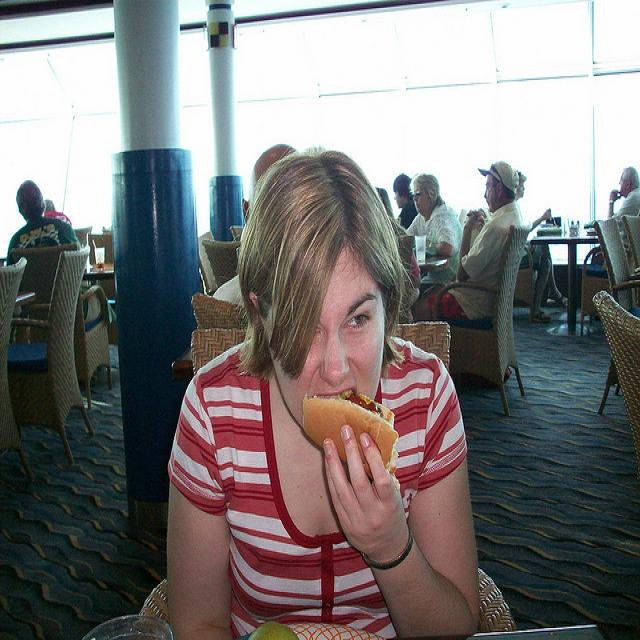chair: (1, 213, 611, 636), (7, 244, 96, 466), (430, 229, 530, 418), (190, 322, 450, 372), (593, 217, 640, 414), (594, 290, 640, 468), (0, 257, 35, 484), (8, 245, 77, 310), (190, 291, 247, 330), (514, 249, 539, 323), (198, 231, 218, 294), (621, 213, 639, 275), (229, 225, 244, 242)
dining table: (530, 231, 601, 334), (420, 254, 450, 274), (83, 266, 114, 280)
